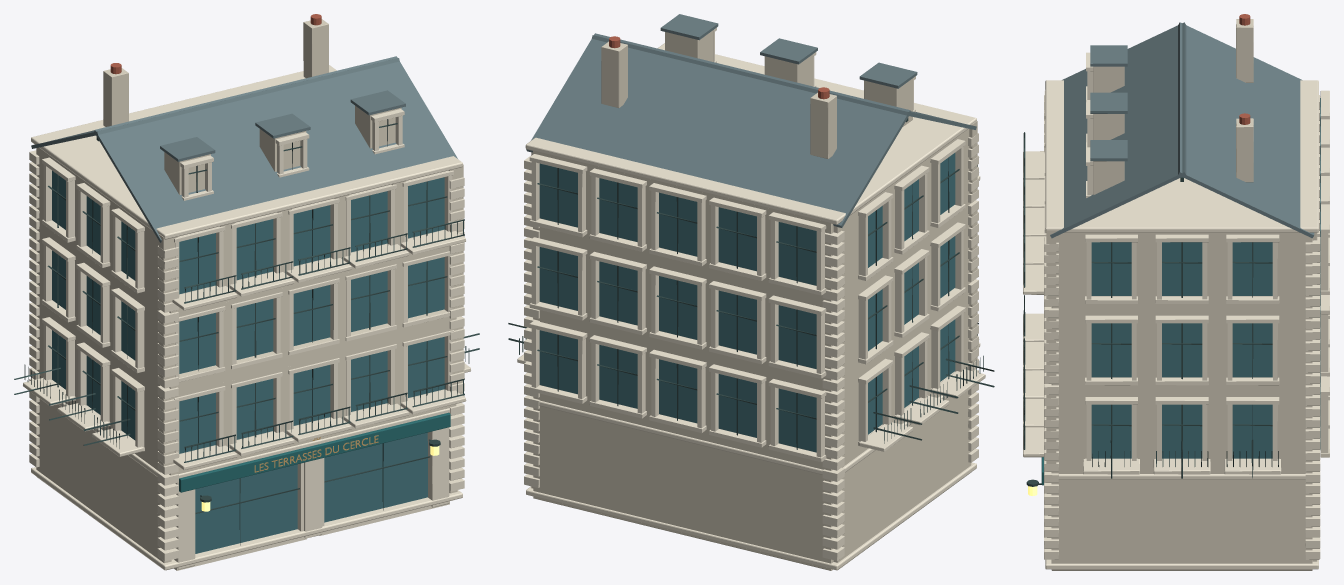
File: Residence-lod.glb
3 views of the same model, side by side, from view 1: azimuth 30°, elevation 25°; view 2: azimuth 150°, elevation 25°; view 3: azimuth 270°, elevation 25° (orthographic). The views are drawn at different scales.
Parts seen in each view (by area): view 1: Residence_Carved ivory.001, Residence_Window blue.001, Residence_Paris limestone.001, Residence_Zinc slate.001, Residence_Forged midnight.001, Residence_3B petrol.001, Residence_Brushed champagne.001; view 2: Residence_Carved ivory.001, Residence_Paris limestone.001, Residence_Window blue.001, Residence_Zinc slate.001, Residence_Forged midnight.001; view 3: Residence_Paris limestone.001, Residence_Carved ivory.001, Residence_Zinc slate.001, Residence_Window blue.001, Residence_Forged midnight.001.
Part boxes in pixels (x1,y1,x2,y2): Residence_Carved ivory.001: [23, 65, 470, 570]; Residence_Window blue.001: [52, 170, 444, 553]; Residence_Paris limestone.001: [36, 19, 463, 563]; Residence_Zinc slate.001: [31, 56, 457, 242]; Residence_Forged midnight.001: [14, 119, 479, 545]; Residence_3B petrol.001: [179, 412, 450, 492]; Residence_Brushed champagne.001: [254, 435, 378, 472]; Residence_Carved ivory.001: [517, 27, 985, 570]; Residence_Paris limestone.001: [531, 30, 977, 570]; Residence_Window blue.001: [539, 153, 955, 452]; Residence_Zinc slate.001: [526, 14, 976, 227]; Residence_Forged midnight.001: [508, 118, 994, 449]; Residence_Paris limestone.001: [1046, 19, 1317, 570]; Residence_Carved ivory.001: [1023, 52, 1329, 569]; Residence_Zinc slate.001: [1050, 22, 1314, 238]; Residence_Window blue.001: [1091, 98, 1320, 458]; Residence_Forged midnight.001: [1023, 132, 1278, 486].
Size of the model in its own units: 24.91 by 25.61 by 16.44.
